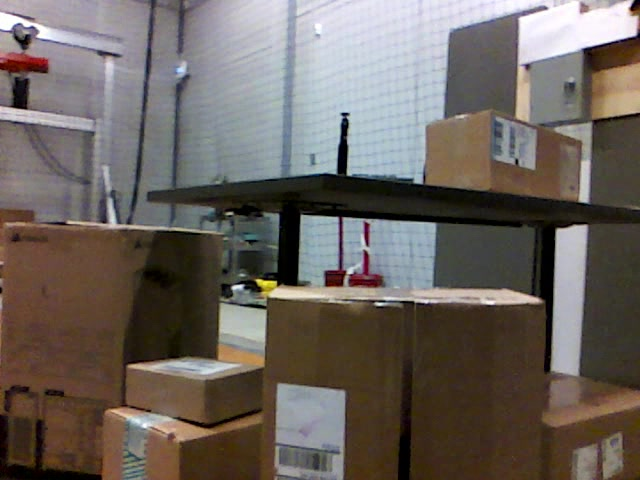box: (1, 218, 224, 480), (263, 287, 545, 480), (425, 111, 584, 200), (102, 406, 262, 480), (541, 382, 638, 478), (127, 357, 262, 420)
